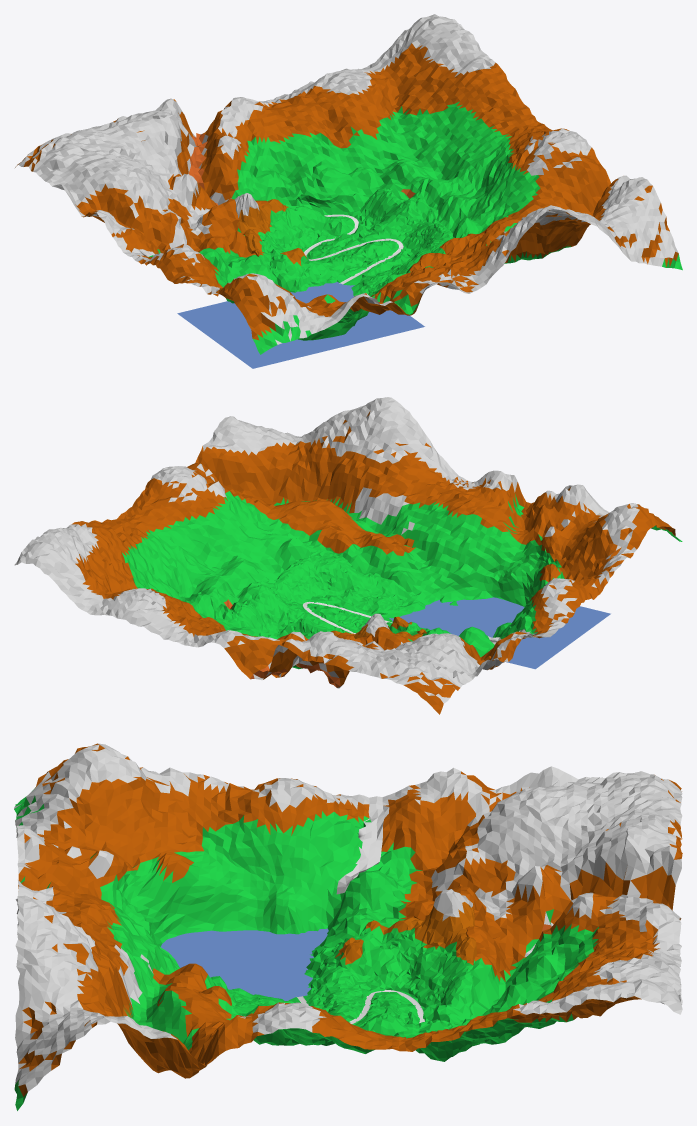
Rendered from Map_Level1_new_path.fbx.
3 views of the same model, one above another, from view 1: azimuth 30°, elevation 25°; view 2: azimuth 150°, elevation 25°; view 3: azimuth 270°, elevation 25° (orthographic). The views are drawn at different scales.
Visible parts, largest first — view 1: Plane.001, terrain, water, Plane.004; view 2: Plane.001, terrain, water; view 3: Plane.001, terrain, water.
Part boxes in pixels (left/top/right/bottom): Plane.001: left=15, top=14, right=682, bottom=354; terrain: left=235, top=188, right=454, bottom=296; water: left=177, top=282, right=424, bottom=368; Plane.004: left=304, top=214, right=403, bottom=284; Plane.001: left=14, top=397, right=682, bottom=714; terrain: left=227, top=548, right=429, bottom=640; water: left=389, top=597, right=610, bottom=669; Plane.001: left=14, top=743, right=682, bottom=1110; terrain: left=228, top=889, right=476, bottom=1029; water: left=161, top=928, right=328, bottom=1000.
Bounding box in the file's own units: 19632 × 5999 × 19587.
